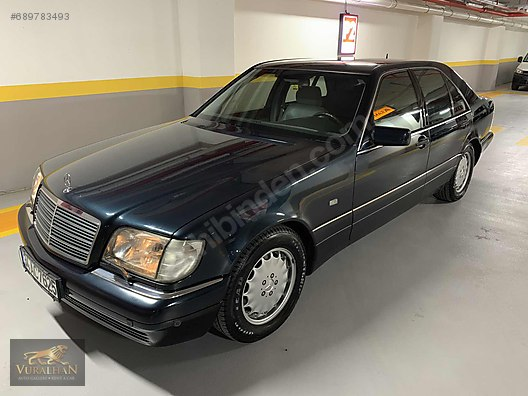m: (12, 51, 497, 351)
